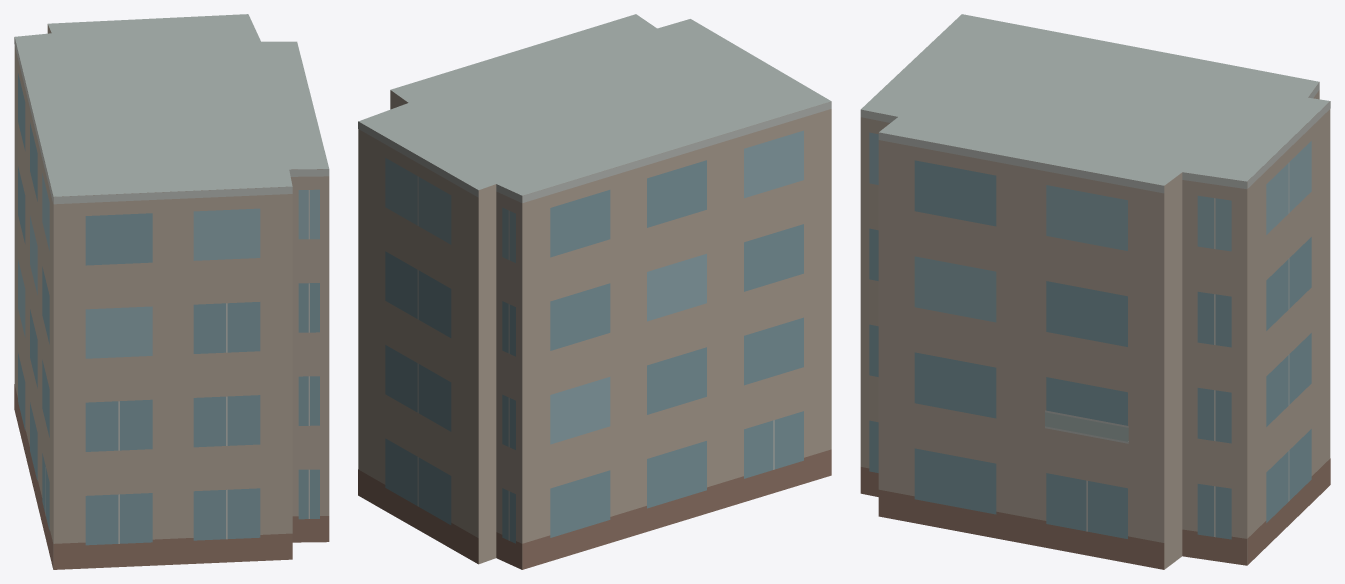
File: survey-upis-32564307.glb
3 renders of one model, left to right at view 1: azimuth 30°, elevation 25°; view 2: azimuth 150°, elevation 25°; view 3: azimuth 270°, elevation 25°, orthographic. The views are drawn at different scales.
Parts seen in each view (by area): view 1: survey-upis-32564307.tmp; view 2: survey-upis-32564307.tmp; view 3: survey-upis-32564307.tmp.
Part boxes in pixels (x1,y1,x2,y2): survey-upis-32564307.tmp: [14, 14, 329, 569]; survey-upis-32564307.tmp: [358, 14, 831, 569]; survey-upis-32564307.tmp: [860, 14, 1330, 569].
Size of the model in its own units: 11.71 by 12.2 by 13.53.
